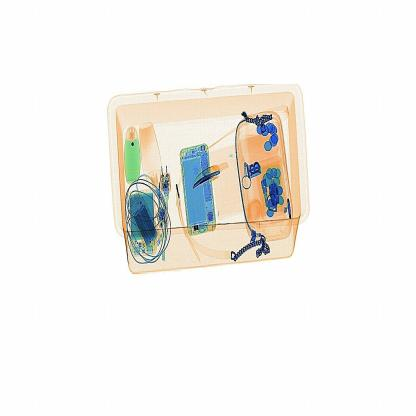pliers: (193, 163, 229, 190)
